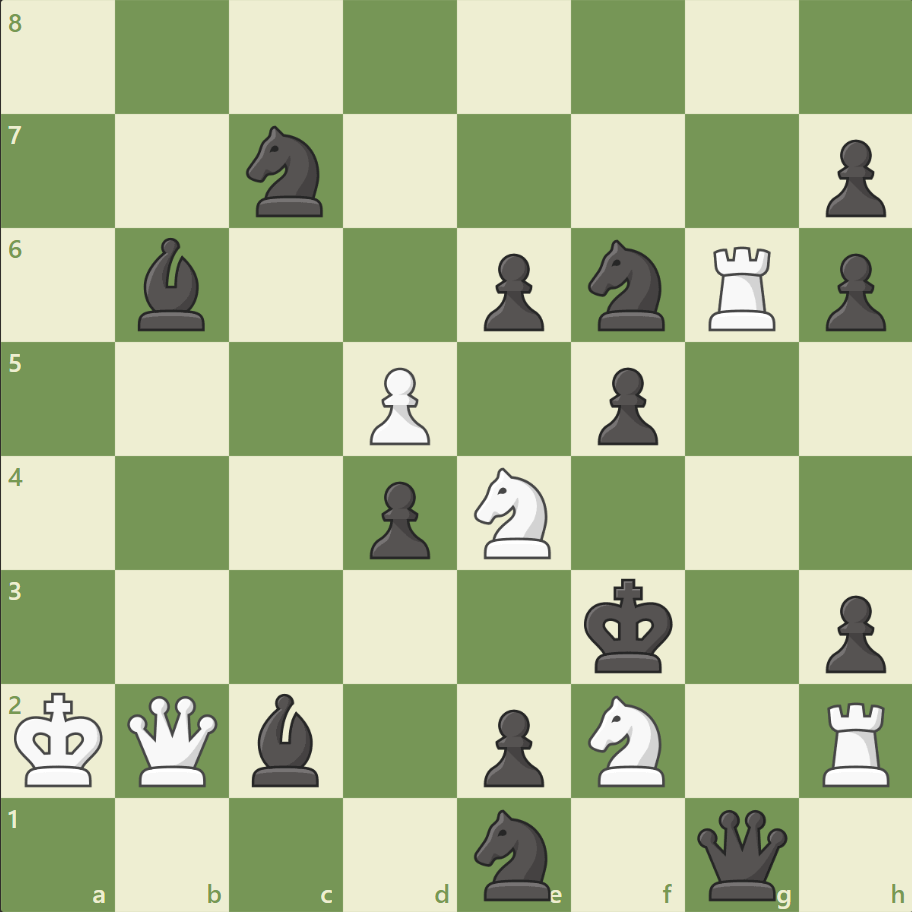K: (11, 685, 111, 793)
N: (465, 461, 562, 564), (579, 688, 676, 791)
P: (361, 359, 435, 450)
Q: (124, 690, 223, 789)
R: (700, 239, 783, 336), (814, 693, 897, 790)
b: (131, 233, 215, 336), (244, 687, 328, 790)
k: (579, 571, 679, 679)
n: (579, 234, 676, 337), (238, 121, 335, 223), (465, 802, 562, 904)
p: (474, 246, 549, 337), (474, 700, 549, 791), (815, 132, 889, 223), (815, 246, 889, 337), (588, 359, 662, 450), (361, 473, 435, 564), (815, 586, 889, 677)
q: (691, 804, 790, 903)
